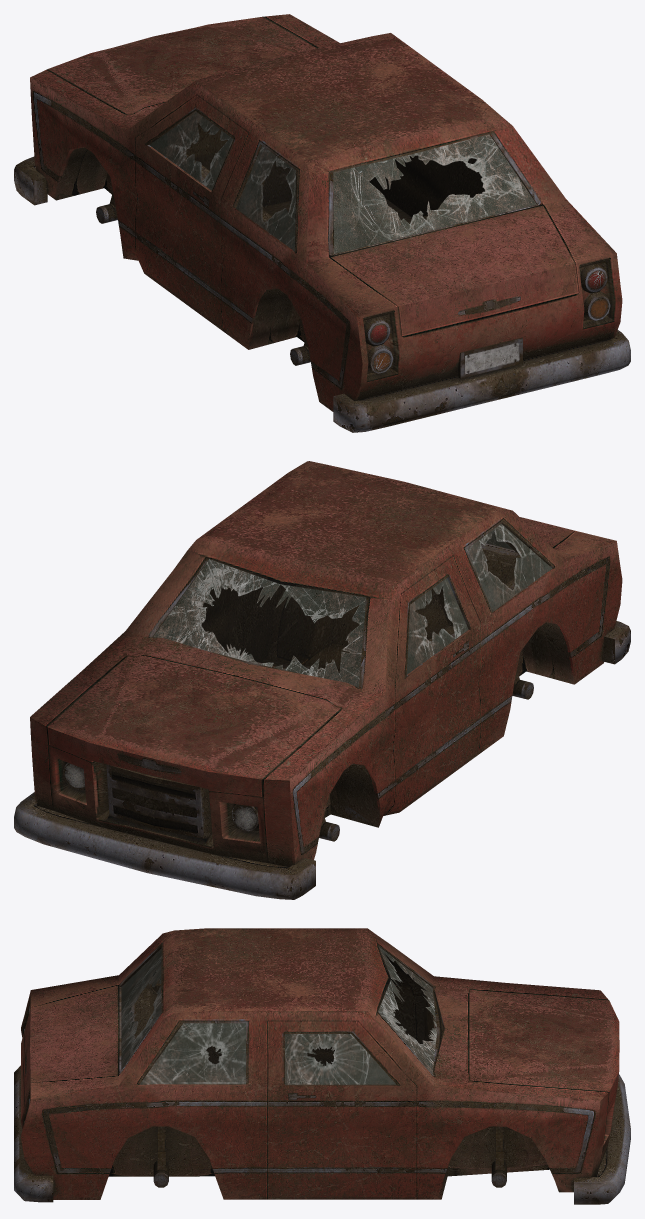
File: carfinal.FBX
3 views of the same model, one above another, from view 1: azimuth 30°, elevation 25°; view 2: azimuth 150°, elevation 25°; view 3: azimuth 270°, elevation 25° (orthographic). The views are drawn at different scales.
Visible parts, largest first — view 1: Box002, Plane002; view 2: Box002, Plane002; view 3: Box002, Plane002.
Part boxes in pixels (box(x1,y1,x2,y2)): Box002: box(14, 14, 630, 432); Plane002: box(149, 112, 536, 253); Box002: box(14, 461, 630, 899); Plane002: box(153, 524, 551, 687); Box002: box(14, 928, 630, 1204); Plane002: box(121, 946, 437, 1084).
Size of the model in its own units: 58.15 by 40.49 by 127.
